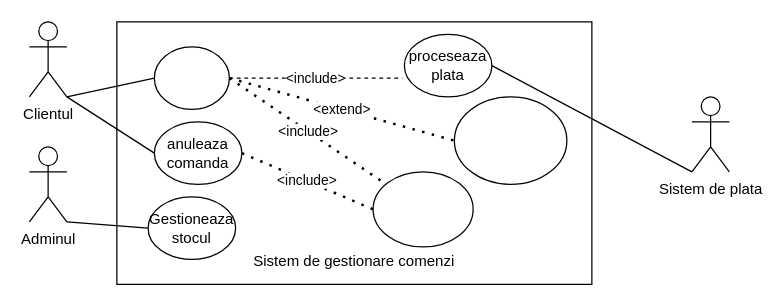
Image size: 784x306. Some labels were removed from this diagram. Here are the shapes that lost their labels. From the top down, the centre of each, then its label:
At pixel 191 77: "plaseaza comanda".
At pixel 510 140: "aplica voucher de reducere".
At pixel 422 209: "Trimite notificre pe mail".
